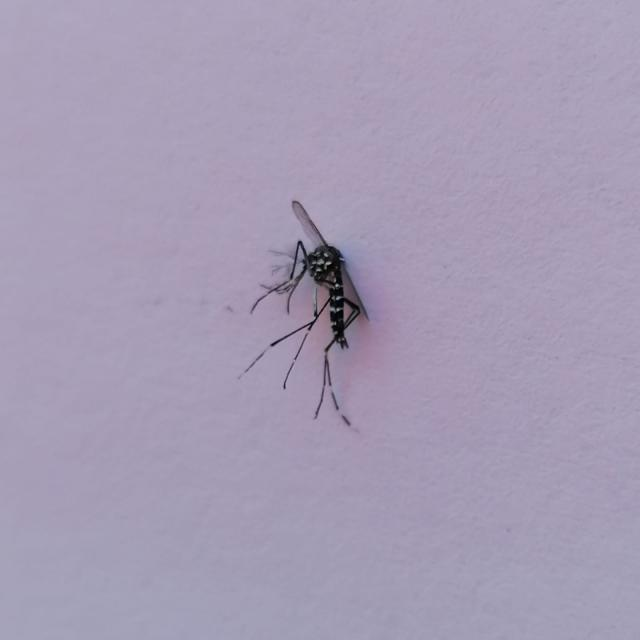albopictus: (234, 193, 372, 432)
